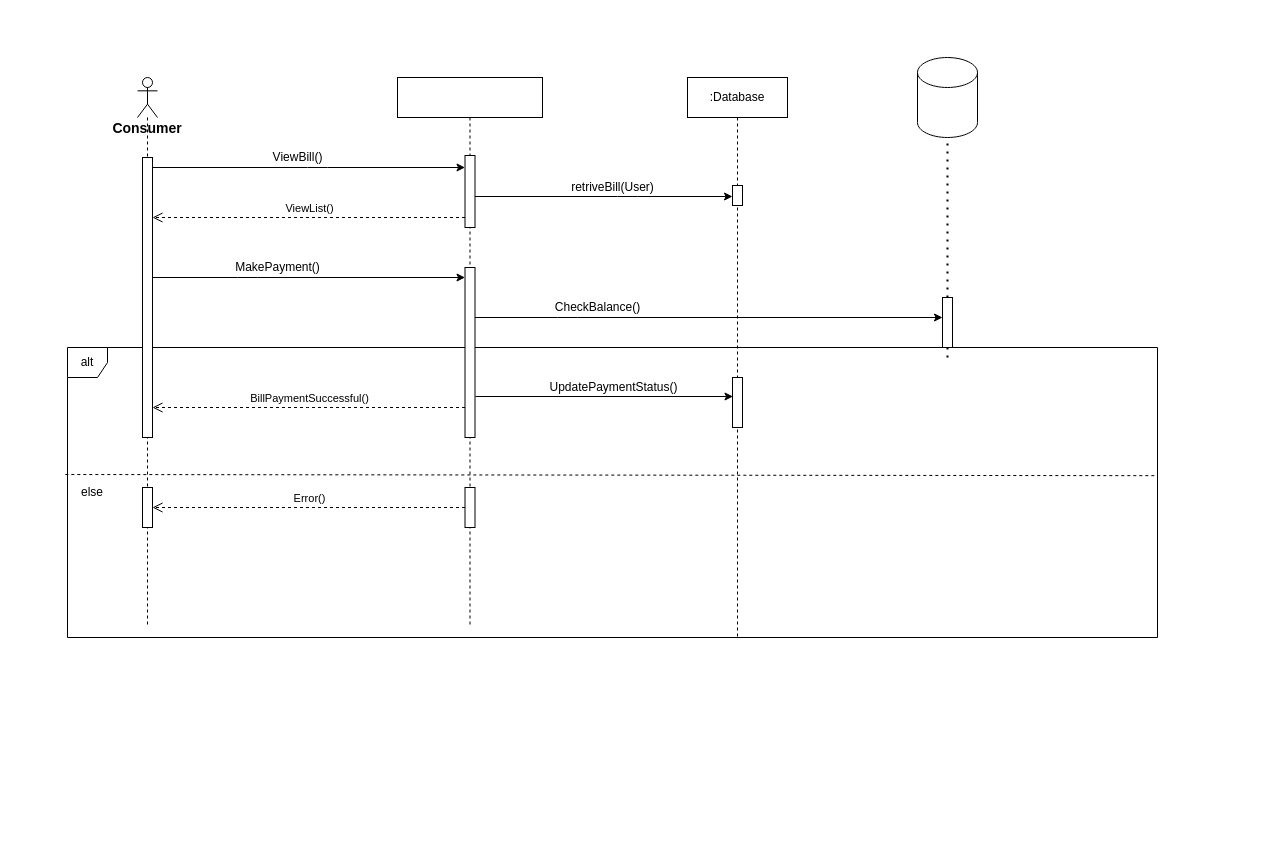
Image size: 1284x844. Some labels were removed from this diagram. The box of each missing label's shape, as (x1, y1, x2, y2) in pixels:
Payment Database: (916, 56, 978, 138)
System: (396, 76, 542, 628)
